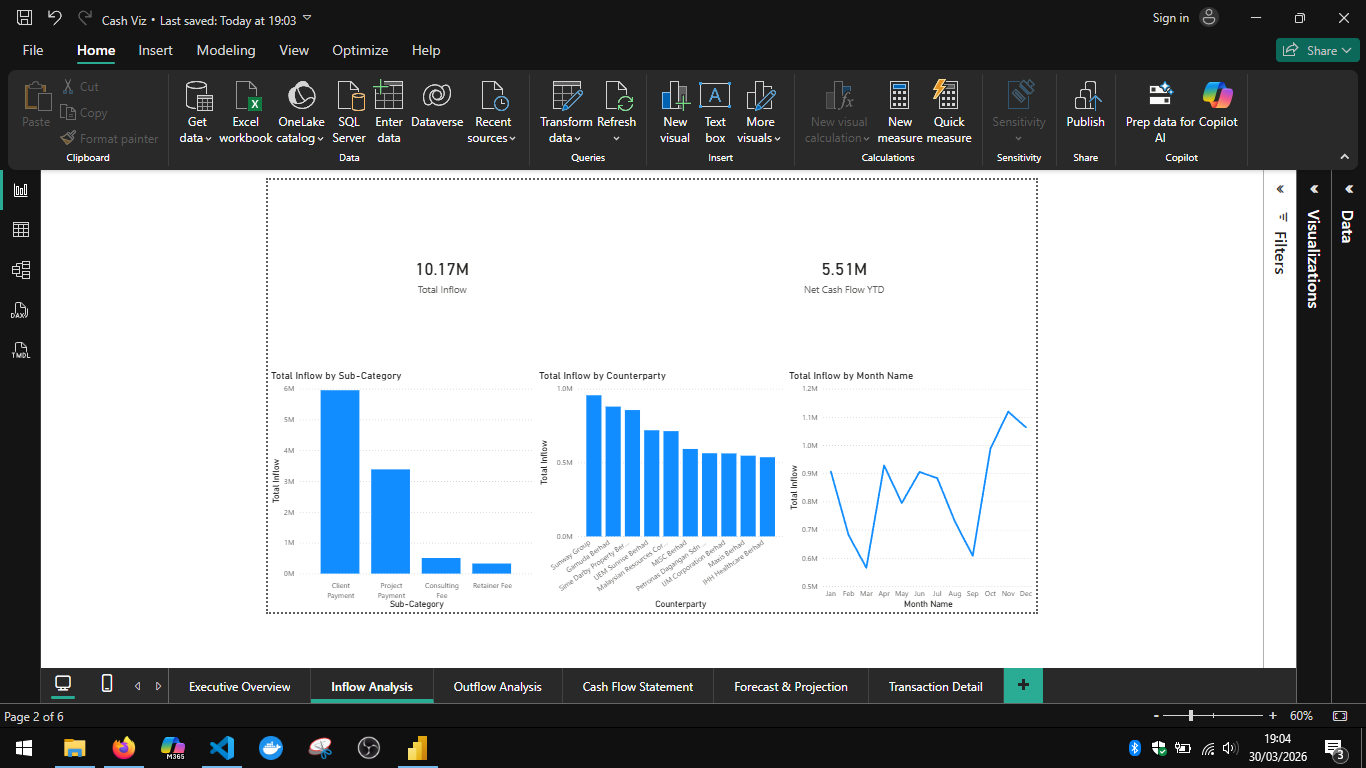

The page's visual inventory and layout, read from the dashboard file:
{"tool":"powerbi","page":{"name":"Inflow Analysis","canvas":[1280,720],"ordinal":1},"visuals":[{"type":"card","fields":{"Values":["MeasuresTable.Total Inflow"]},"box":[0,0,580,315],"z":0},{"type":"card","fields":{"Values":["MeasuresTable.Net Cash Flow YTD"]},"box":[640,0,640,315],"z":1},{"type":"clusteredColumnChart","fields":{"Y":["MeasuresTable.Total Inflow"],"Category":["transactions_sample.Sub-Category"]},"box":[0,315,446.7,405],"z":2},{"type":"clusteredColumnChart","fields":{"Y":["MeasuresTable.Total Inflow"],"Category":["DimCounterparty.Counterparty"]},"box":[446.7,315,416.7,405],"z":3},{"type":"lineChart","fields":{"Y":["MeasuresTable.Total Inflow"],"Category":["DimDate.Month Name"]},"box":[863.3,315,416.7,405],"z":4}]}

Visuals, with their boxes on the page's 1280x720 design canvas (x1, y1, x2, y2). These are canvas units, not pixel positions in the 1366x768 screenshot, which may show the page scaled, cropped or inside an application window:
card - MeasuresTable.Total Inflow: bbox(0, 0, 580, 315)
card - MeasuresTable.Net Cash Flow YTD: bbox(640, 0, 1280, 315)
clusteredColumnChart - MeasuresTable.Total Inflow x transactions_sample.Sub-Category: bbox(0, 315, 447, 720)
clusteredColumnChart - MeasuresTable.Total Inflow x DimCounterparty.Counterparty: bbox(447, 315, 863, 720)
lineChart - MeasuresTable.Total Inflow x DimDate.Month Name: bbox(863, 315, 1280, 720)
